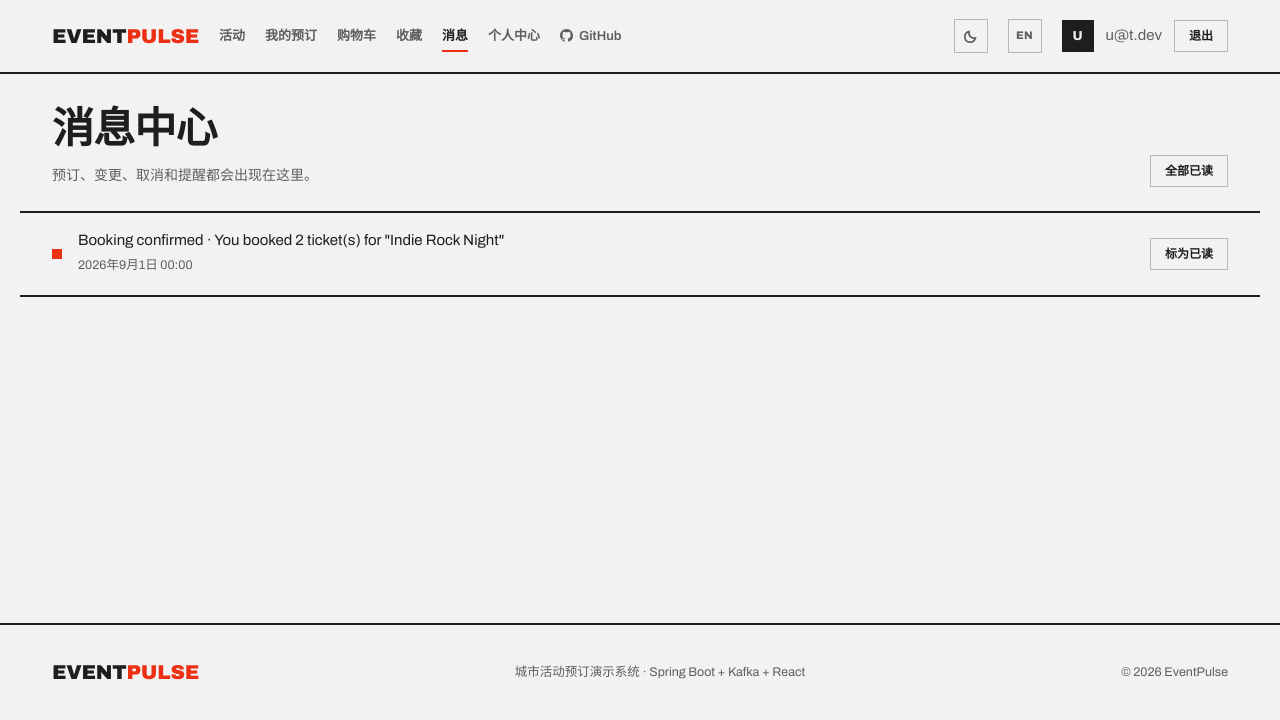
Test: NotificationsPage › keeps the message and surfaces a toast when the read receipt fails
The width and height of the screenshot is (1280, 720).
Check: the text "Booking confirmed · You booked 2 ticket(s) for \"Indie Rock Night\"" is shown, box [78, 232, 504, 248]
Click the button "标为已读" at (1189, 254), box [1150, 238, 1228, 270]
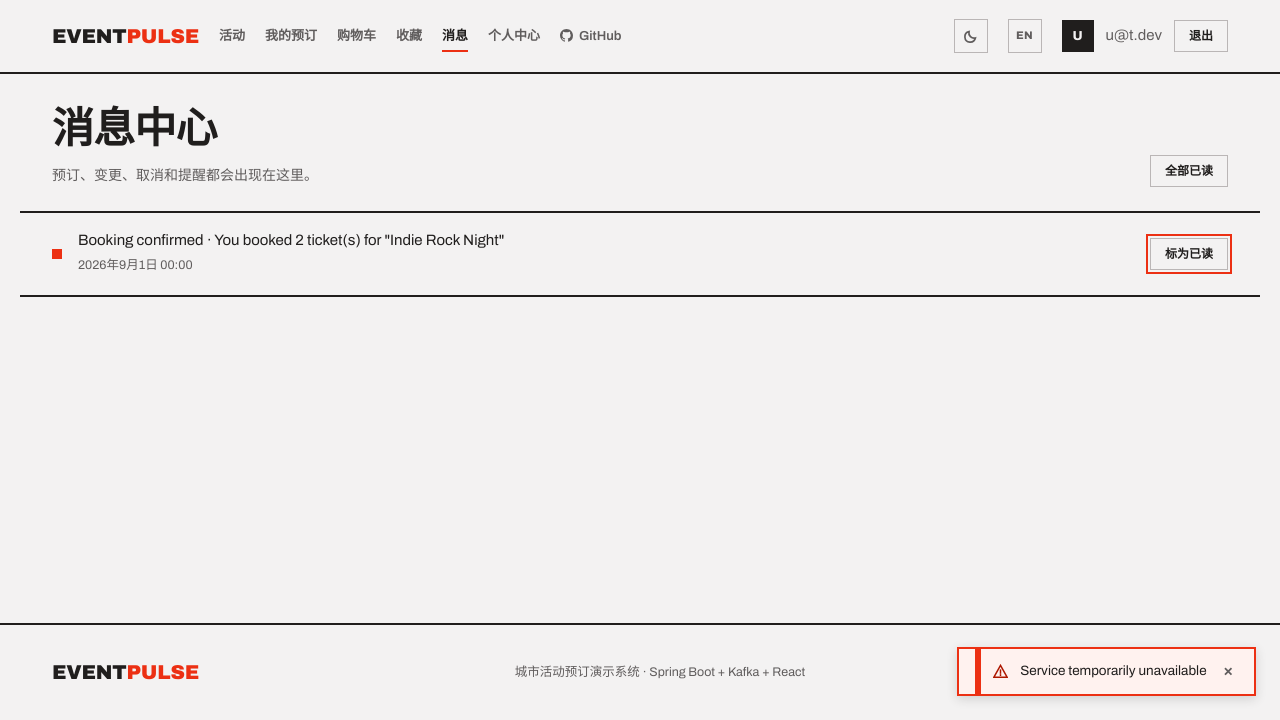
Check: the text "Booking confirmed · You booked 2 ticket(s) for \"Indie Rock Night\"" is shown, box [78, 232, 504, 248]
Check: the text "Service temporarily unavailable" is shown, box [1020, 661, 1207, 682]
